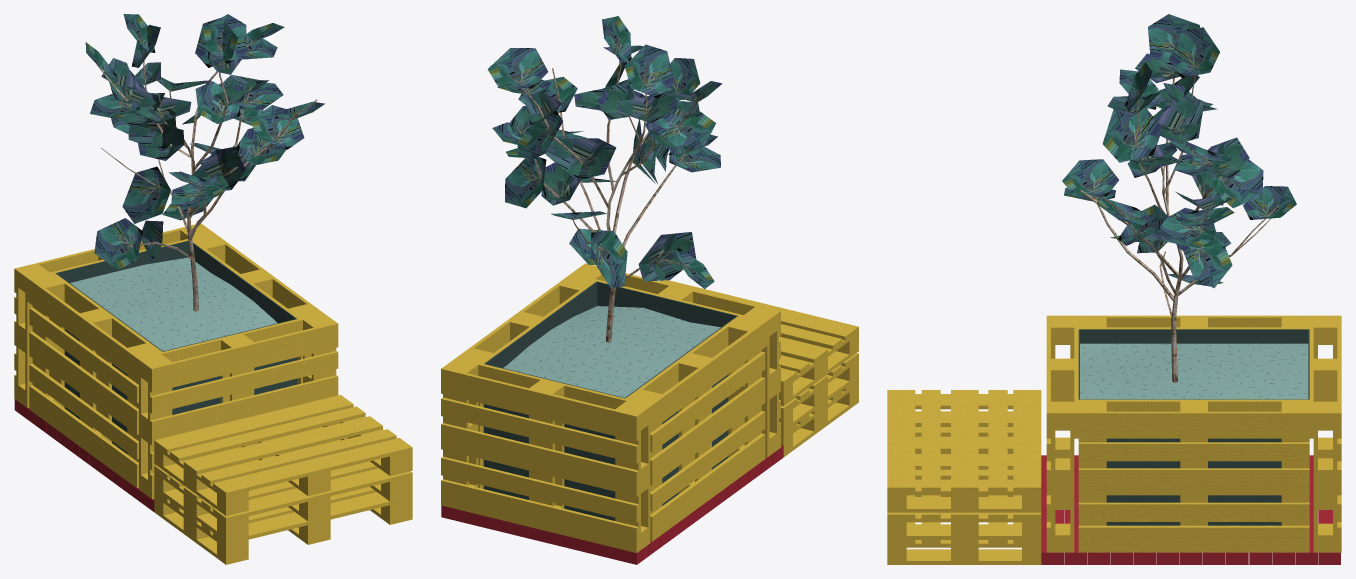
The picture shows the model from 3 angles, left to right: view 1: azimuth 30°, elevation 25°; view 2: azimuth 150°, elevation 25°; view 3: azimuth 270°, elevation 25°; orthographic projection. The views are drawn at different scales.
Parts seen in each view (by area): view 1: wooden pallet 1 (×4), wooden pallet 1#1 (×3), skp2038, object 74, object 73; view 2: wooden pallet 1 (×4), skp2038, object 74, wooden pallet 1#1 (×3), object 73, brick style 2a#1; view 3: wooden pallet 1 (×4), wooden pallet 1#1 (×3), skp2038, object 74, object 73.
Boxes of the visible parts, x1,y1,x2,y2 form: wooden pallet 1 (×4): [14, 223, 338, 498]; wooden pallet 1#1 (×3): [154, 395, 412, 564]; skp2038: [85, 14, 324, 311]; object 74: [70, 257, 277, 351]; object 73: [55, 241, 297, 453]; wooden pallet 1 (×4): [441, 263, 780, 552]; skp2038: [487, 16, 722, 342]; object 74: [503, 306, 720, 397]; wooden pallet 1#1 (×3): [660, 280, 858, 456]; object 73: [483, 281, 737, 520]; brick style 2a#1: [597, 544, 647, 564]; wooden pallet 1 (×4): [1046, 315, 1341, 552]; wooden pallet 1#1 (×3): [887, 390, 1041, 564]; skp2038: [1062, 14, 1296, 382]; object 74: [1080, 343, 1308, 399]; object 73: [1078, 329, 1309, 525].
Size of the model in its own units: 1.39 by 2.66 by 2.36.
6 materials, 4 textured.
